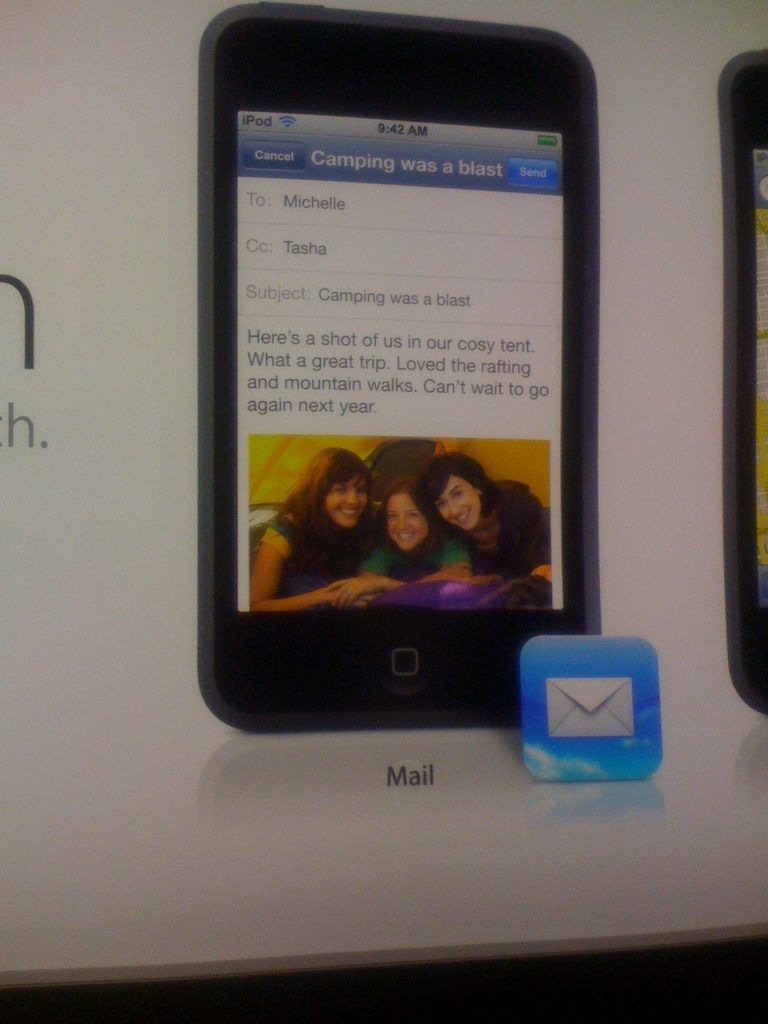Mobile-phone: (195, 0, 619, 732), (719, 49, 767, 721)
